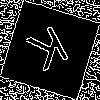K: (25, 25, 76, 81)
